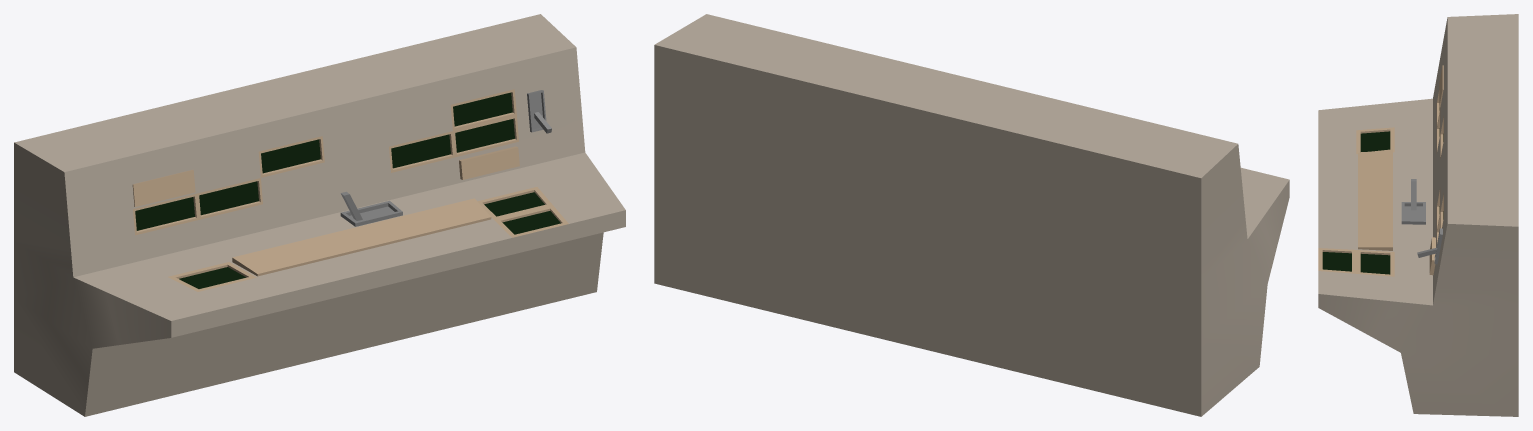
File: Puter.fbx
3 renders of one model, left to right at view 1: azimuth 30°, elevation 25°; view 2: azimuth 150°, elevation 25°; view 3: azimuth 270°, elevation 25°, orthographic. The views are drawn at different scales.
Visible parts, largest first — view 1: Puter; view 2: Puter; view 3: Puter.
Boxes of the visible parts, x1,y1,x2,y2 form: Puter: (14, 14, 625, 416); Puter: (654, 14, 1289, 416); Puter: (1318, 14, 1518, 416).
Size of the model in its own units: 600 by 250 by 239.
